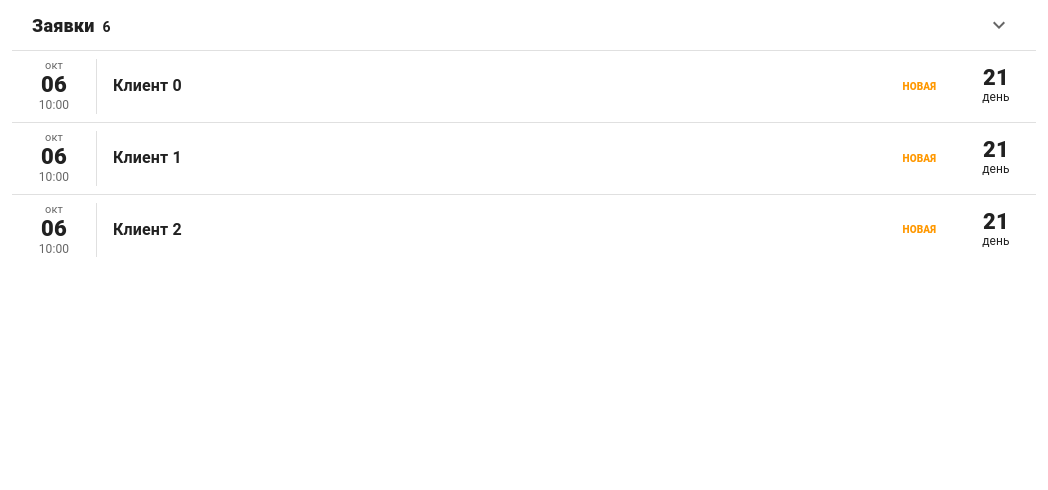
Test: ServiceRequestsPanel › длиннее трёх сворачивает список и раскрывает иконкой в шапке
Expected: the number of links is 3, [28, 59, 1020, 114]; [28, 131, 1020, 186]; [28, 203, 1020, 257]
Expected: the link "Клиент 5" is not shown
Click the button named "Развернуть заявки" at (999, 25), box [982, 8, 1016, 42]
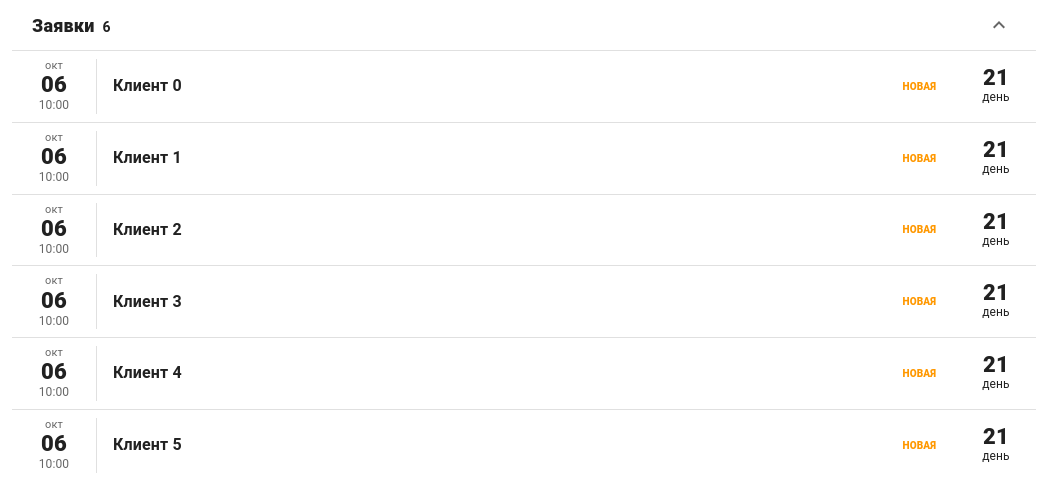
Result: the link "Клиент 5" is shown at [28, 418, 1020, 473]
Result: the number of links is 6 at [28, 59, 1020, 114]; [28, 131, 1020, 186]; [28, 203, 1020, 257]; [28, 274, 1020, 329]; [28, 346, 1020, 401]; [28, 418, 1020, 473]
Click the button named "Свернуть заявки" at (999, 25), box [982, 8, 1016, 42]
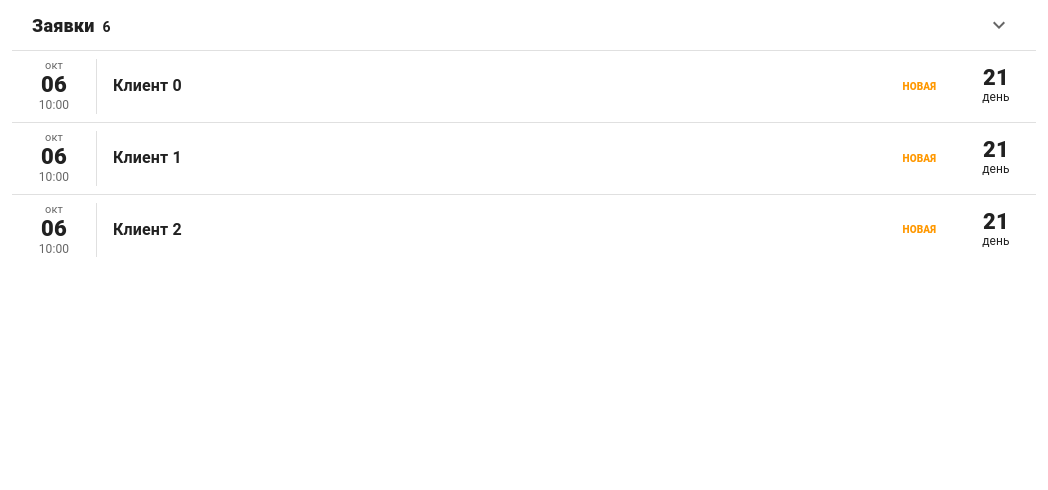
Result: the link "Клиент 5" is gone
Result: the number of links is 3 at [28, 59, 1020, 114]; [28, 131, 1020, 186]; [28, 203, 1020, 257]
